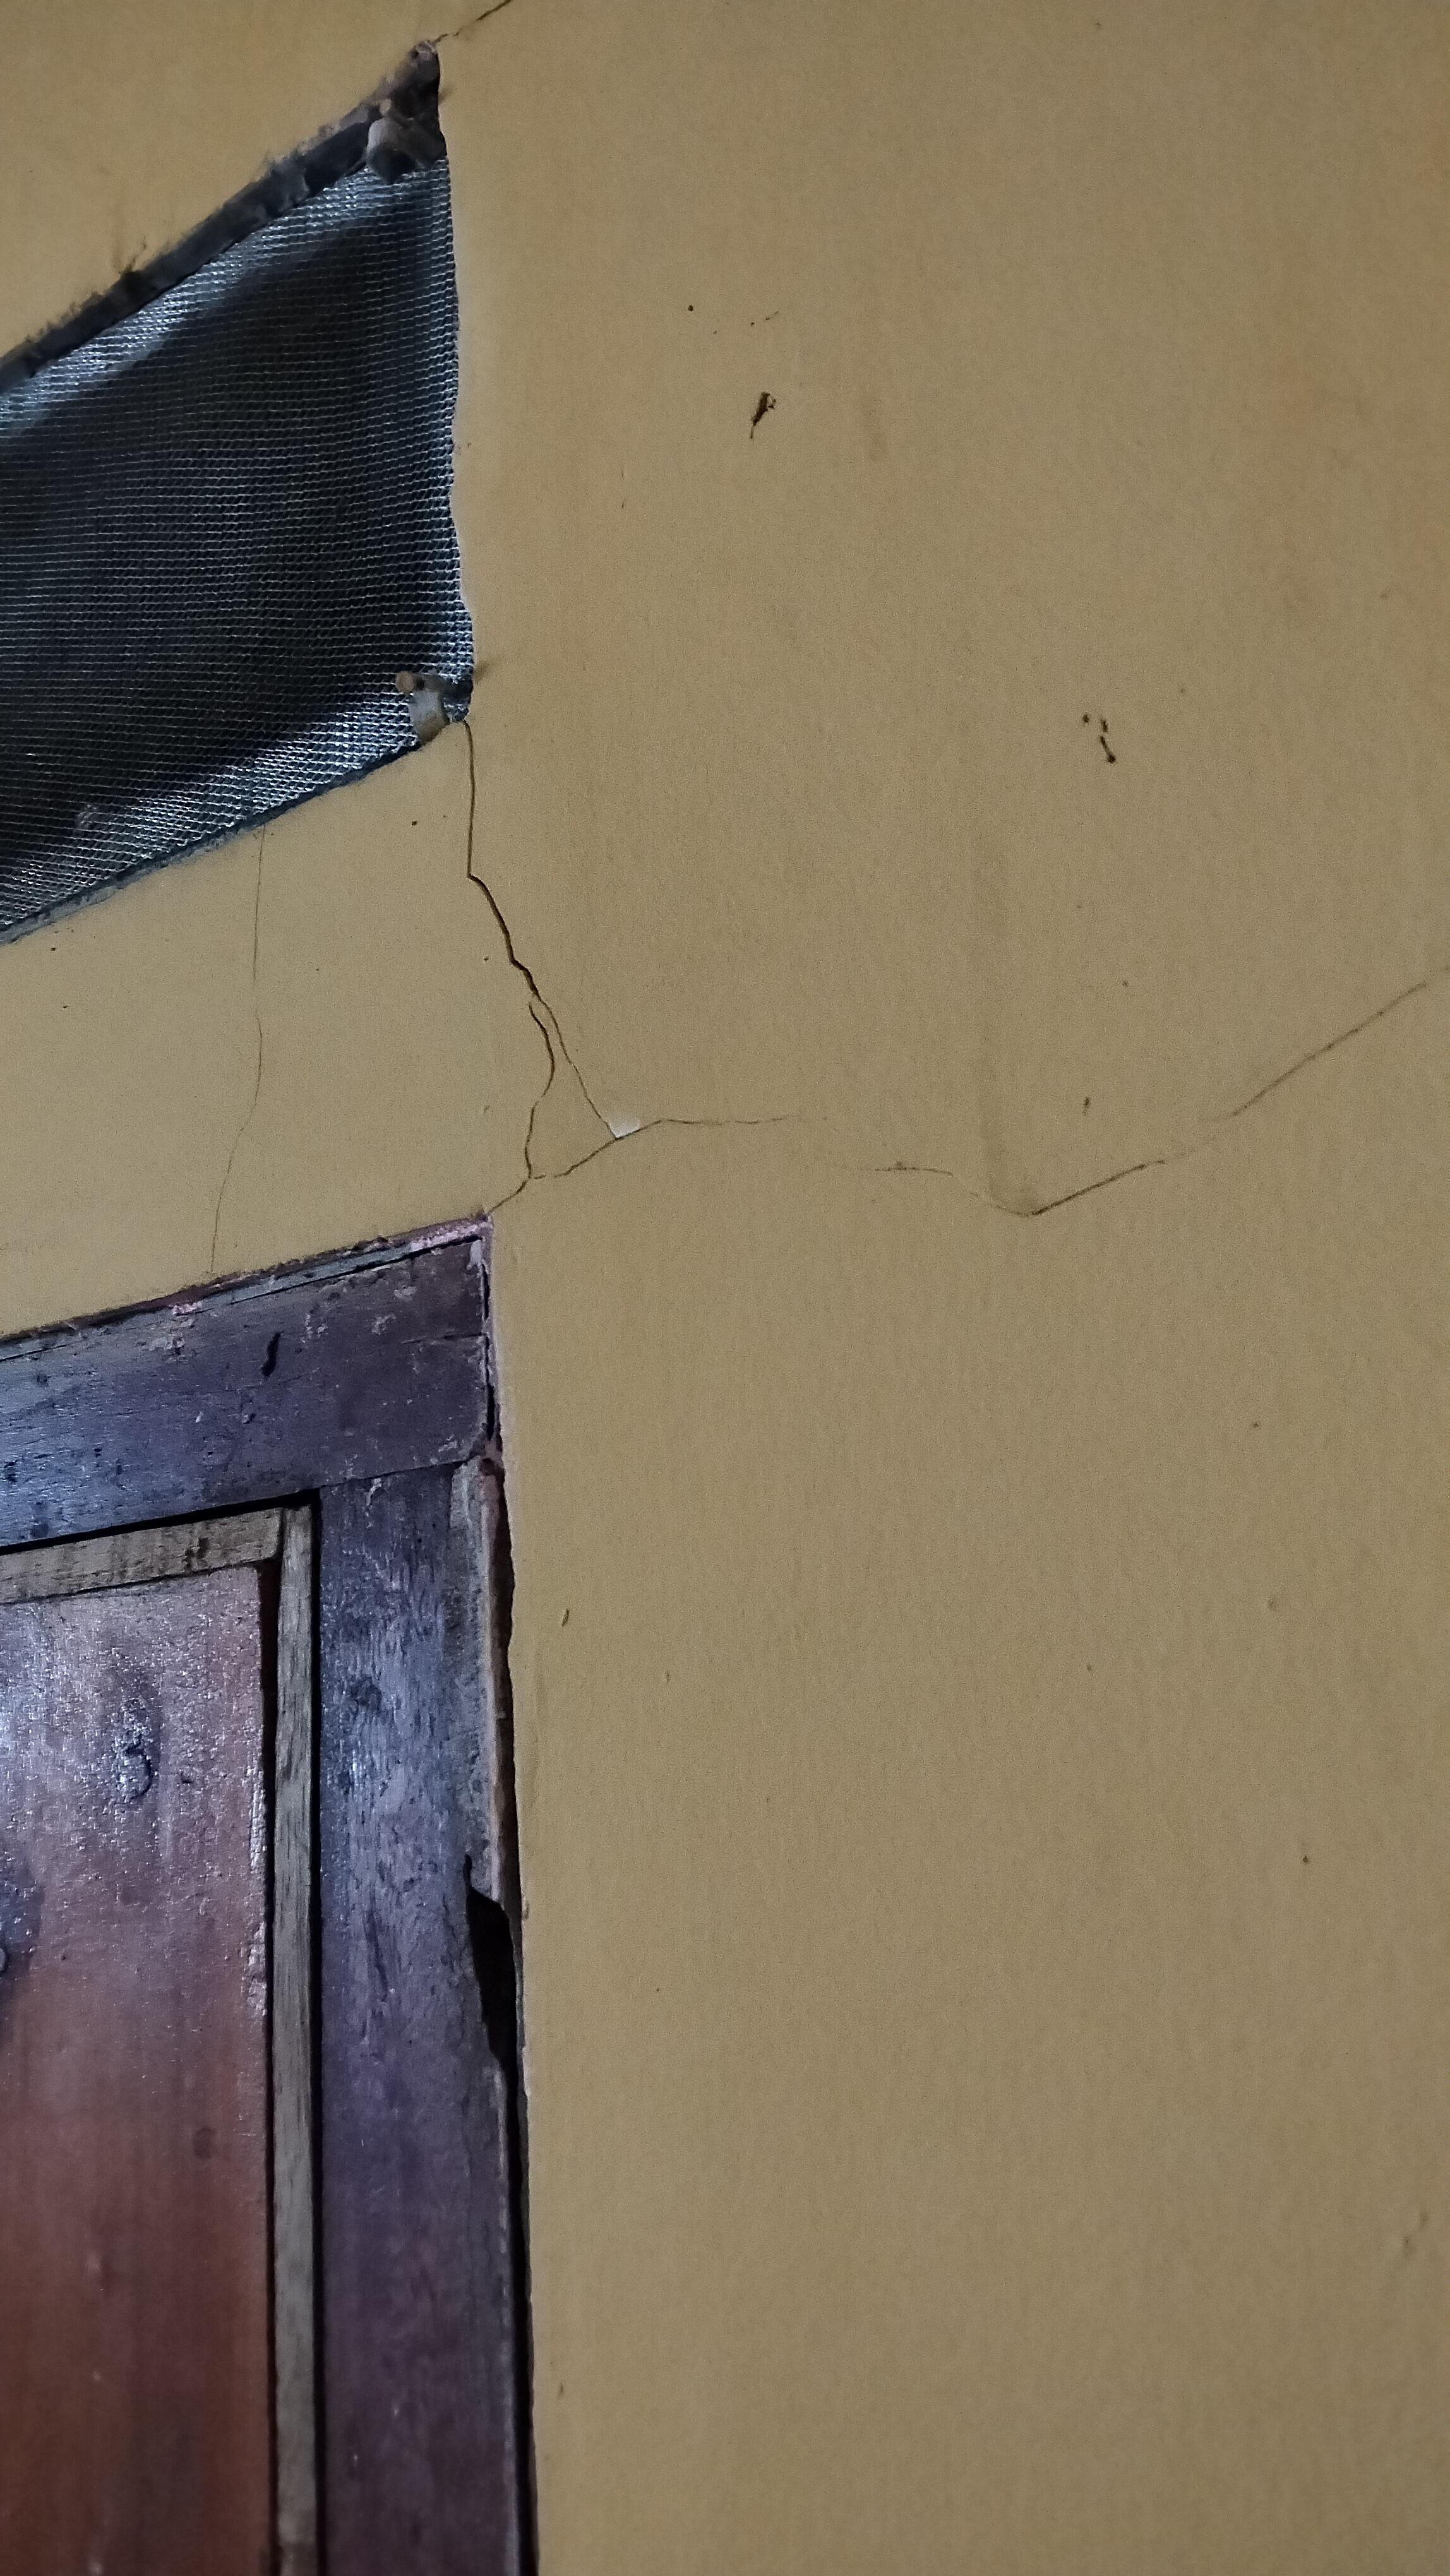Crack: (434, 709, 712, 1215), (976, 943, 1450, 1238), (205, 826, 289, 1290)
